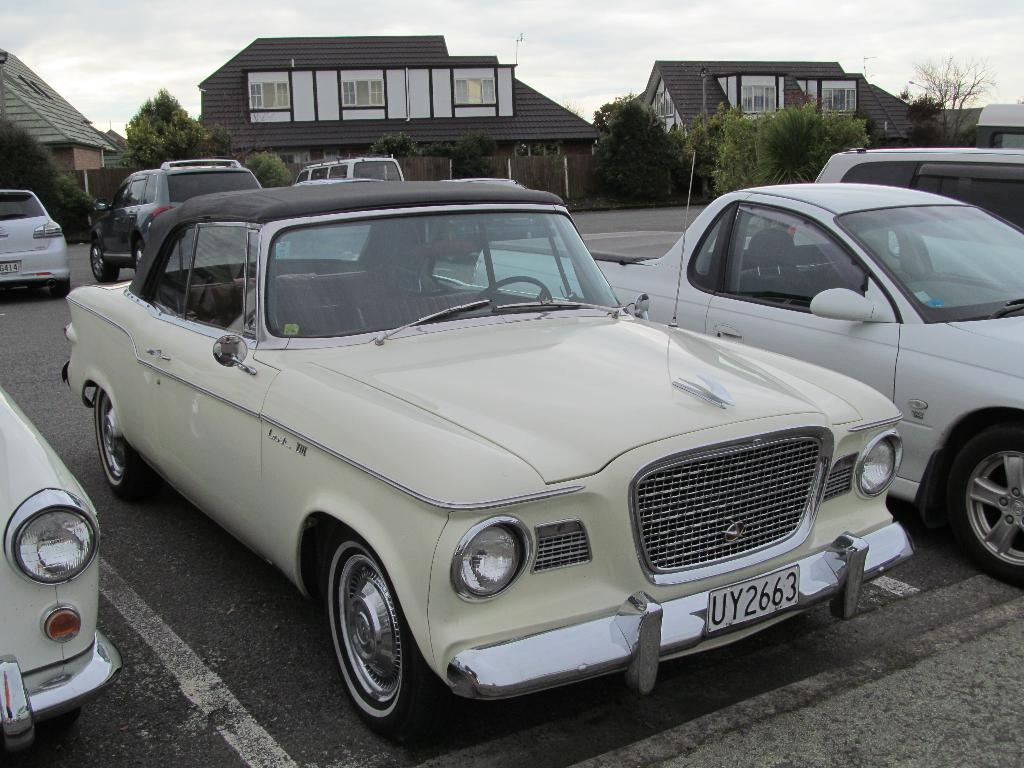Car: (0, 150, 1023, 767)
